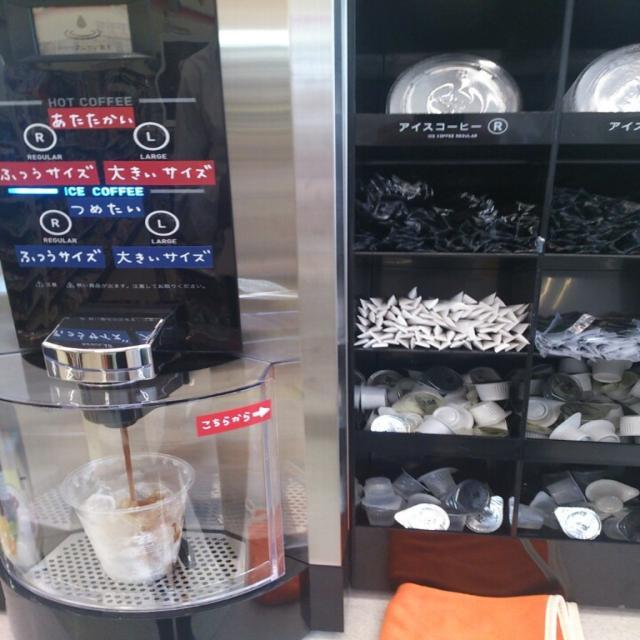Coffee-Machine: (0, 1, 272, 616)
